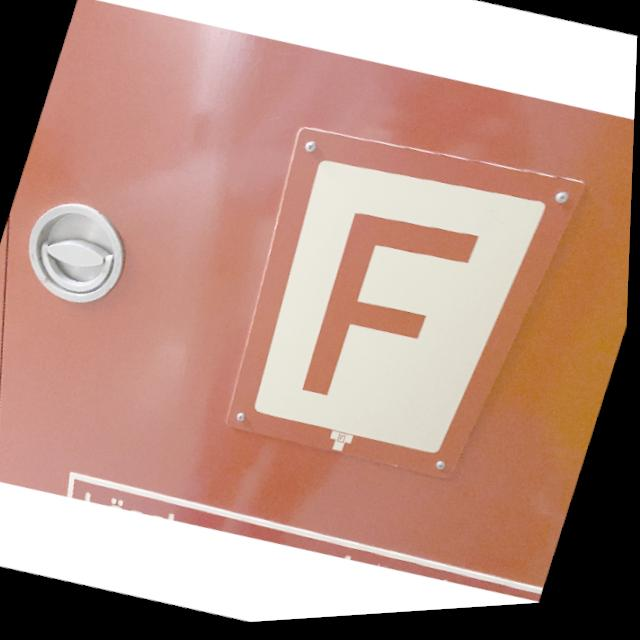fire extinguisher: (205, 108, 589, 511)
